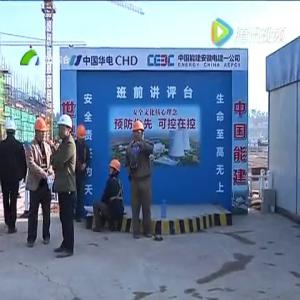white: (57, 114, 73, 139), (6, 120, 18, 139)
yellow: (34, 117, 49, 143), (133, 121, 146, 142), (109, 159, 122, 179), (77, 126, 87, 144)
